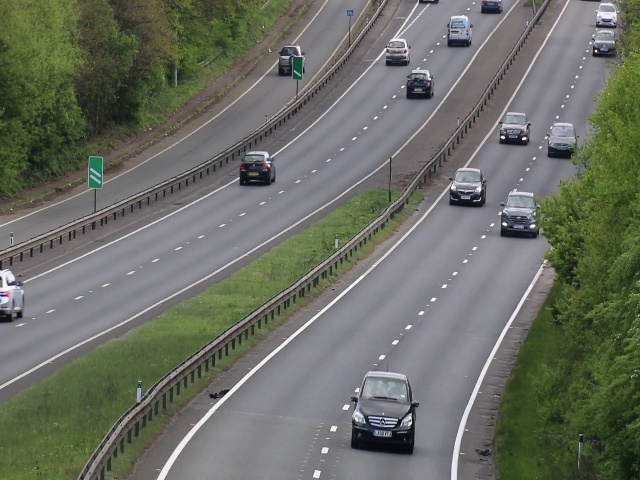car: (350, 371, 416, 455), (499, 192, 536, 236), (448, 166, 486, 207), (238, 150, 277, 186), (1, 268, 25, 321), (499, 110, 529, 146), (546, 123, 575, 159), (405, 69, 434, 99), (446, 14, 472, 47), (385, 37, 411, 67), (592, 29, 615, 59), (278, 45, 293, 77), (596, 3, 617, 25)
